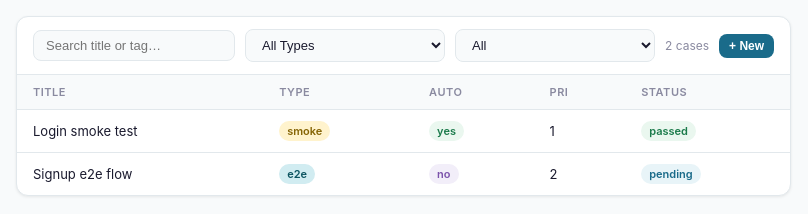
Test: TestCases — list and filters › filters by test_type
This screenshot has width=808, height=214.
expect the text "Login smoke test" is shown: met, box [17, 110, 263, 152]
Select "smoke" in the 1st dropdown. click: (345, 46)
box: [245, 29, 445, 62]
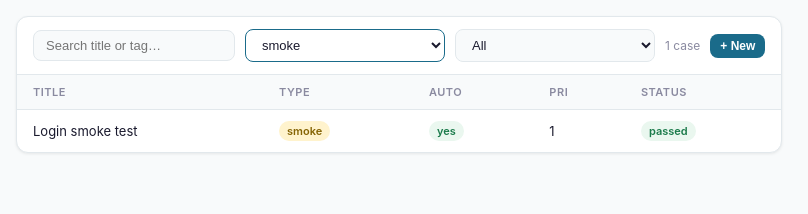
expect the text "Login smoke test" is shown: met, box [17, 110, 263, 152]
expect the text "Signup e2e flow" is gone: met
